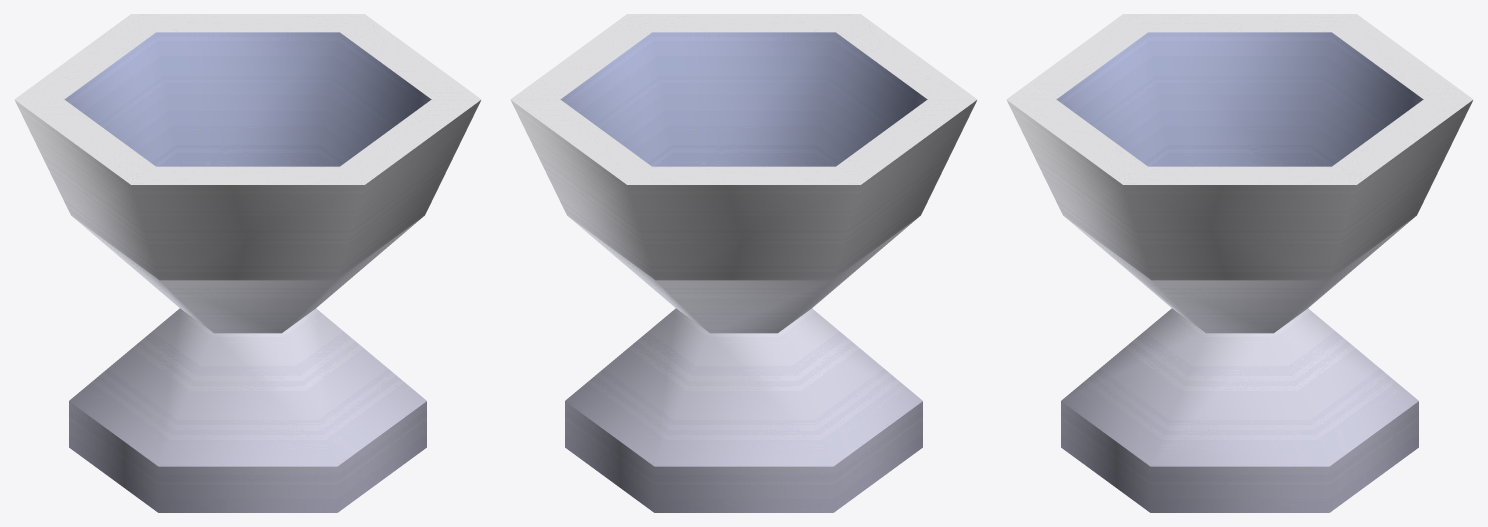
Rendered from egg-cup.glb.
The picture shows the model from 3 angles, left to right: view 1: azimuth 30°, elevation 25°; view 2: azimuth 150°, elevation 25°; view 3: azimuth 270°, elevation 25°; orthographic projection.
Visible parts, largest first — view 1: egg-cup; view 2: egg-cup; view 3: egg-cup.
Part boxes in pixels (x1,y1,x2,y2): egg-cup: (14,14,481,512); egg-cup: (510,14,977,512); egg-cup: (1006,14,1473,512).
Size of the model in its own units: 0.1581 by 0.15 by 0.1826.
Materials: 1 (1 with a texture image).
